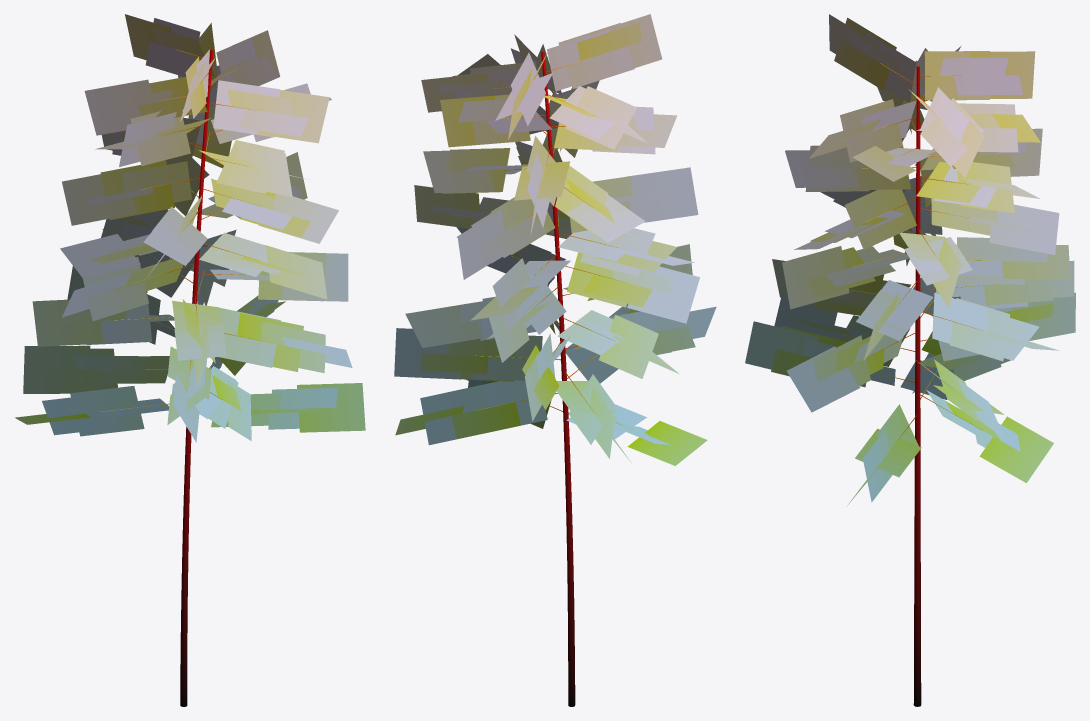
Rendered from bamboo_3.glb.
The picture shows the model from 3 angles, left to right: view 1: azimuth 30°, elevation 25°; view 2: azimuth 150°, elevation 25°; view 3: azimuth 270°, elevation 25°; orthographic projection.
Parts seen in each view (by area): view 1: bamboo_3_lod0; view 2: bamboo_3_lod0; view 3: bamboo_3_lod0.
Part boxes in pixels (x1=…): bamboo_3_lod0: x1=15, y1=14, x2=365, y2=706; bamboo_3_lod0: x1=394, y1=14, x2=716, y2=706; bamboo_3_lod0: x1=745, y1=14, x2=1075, y2=706.
Size of what is drawn, in the model's own units: 5.73 by 12.14 by 5.4.
